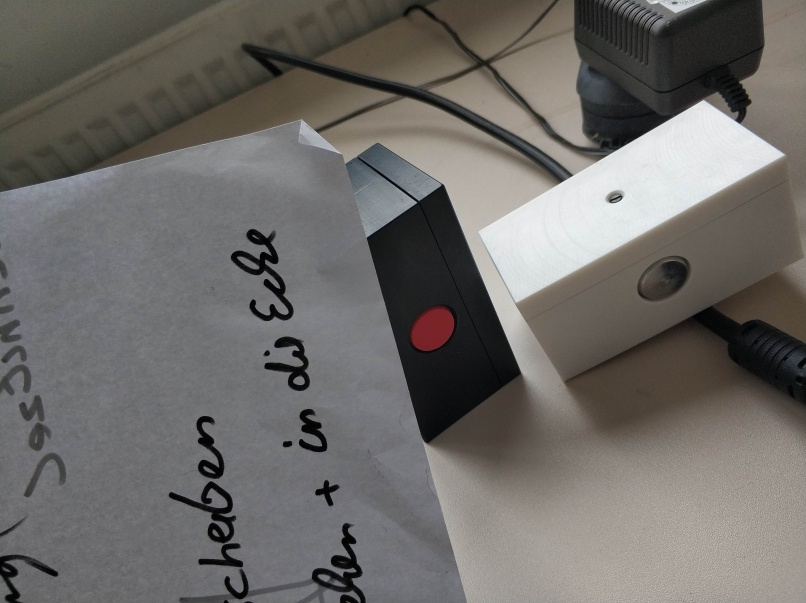black+black+red: (340, 138, 523, 445)
white+white+silver: (476, 97, 804, 382)
